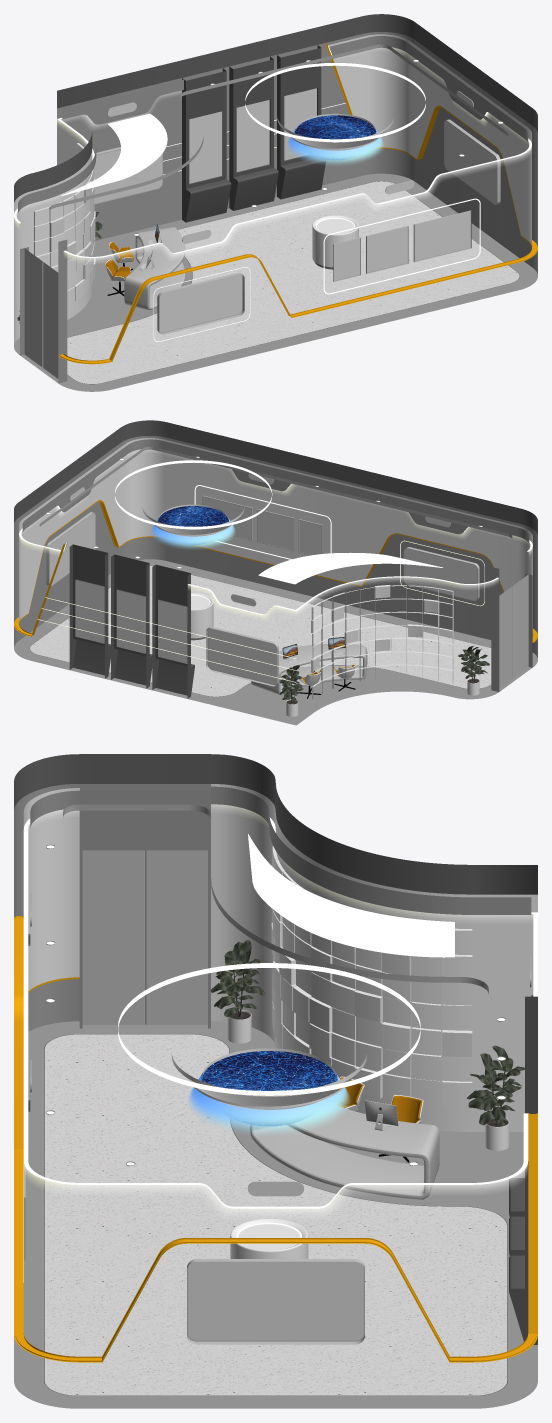
File: room.glb
3 views of the same model, one above another, from view 1: azimuth 30°, elevation 25°; view 2: azimuth 150°, elevation 25°; view 3: azimuth 270°, elevation 25° (orthographic). The views are drawn at different scales.
Parts seen in each view (by area): view 1: M_MX_27, M_MX_00, M_MX_28, M_MX_04, M_MX_19, M_MX_13, M_MX_15, M_MX_01, M_MX_07, M_MX_08, M_MX_23, M_MX_03 (+25 smaller); view 2: M_MX_04, M_MX_00, M_MX_27, M_MX_28, M_MX_19, M_MX_15, M_MX_08, M_MX_01, M_MX_07, M_MX_13, Flat_16, M_MX_23 (+28 smaller); view 3: M_MX_27, M_MX_13, M_MX_28, M_MX_23, M_MX_19, Flat_17, M_MX_33, M_MX_03, M_MX_04, M_MX_02, M_MX_20, M_MX_15 (+17 smaller).
Boxes of the visible parts, x1,y1,x2,y2 form: M_MX_27: (67, 181, 519, 383); M_MX_00: (57, 32, 537, 274); M_MX_28: (14, 173, 537, 391); M_MX_04: (328, 34, 531, 245); M_MX_19: (14, 14, 537, 202); M_MX_13: (14, 143, 95, 344); M_MX_15: (18, 36, 528, 245); M_MX_01: (182, 68, 231, 222); M_MX_07: (229, 56, 278, 210); M_MX_08: (277, 45, 325, 199); M_MX_23: (24, 248, 58, 378); M_MX_03: (59, 43, 537, 364); M_MX_04: (19, 438, 532, 633); M_MX_00: (14, 436, 537, 658); M_MX_27: (30, 566, 491, 696); M_MX_28: (14, 559, 537, 725); M_MX_19: (14, 420, 537, 534); M_MX_15: (22, 439, 529, 612); M_MX_08: (69, 544, 110, 678); M_MX_01: (152, 564, 194, 698); M_MX_07: (111, 554, 152, 688); M_MX_13: (311, 585, 453, 699); Flat_16: (208, 628, 277, 684); M_MX_23: (499, 574, 528, 687); M_MX_27: (44, 1034, 507, 1395); M_MX_13: (211, 784, 537, 1131); M_MX_28: (14, 1021, 537, 1408); M_MX_23: (82, 850, 207, 1024); M_MX_19: (14, 754, 537, 894); Flat_17: (188, 1261, 363, 1340); M_MX_33: (250, 1106, 439, 1199); M_MX_03: (14, 916, 537, 1362); M_MX_04: (23, 788, 79, 991); M_MX_02: (79, 791, 210, 1028); M_MX_20: (248, 834, 454, 957); M_MX_15: (28, 786, 533, 1111).
Bounding box in the file's own units: 14 × 4.5 × 8.
48 materials, 10 textured.
